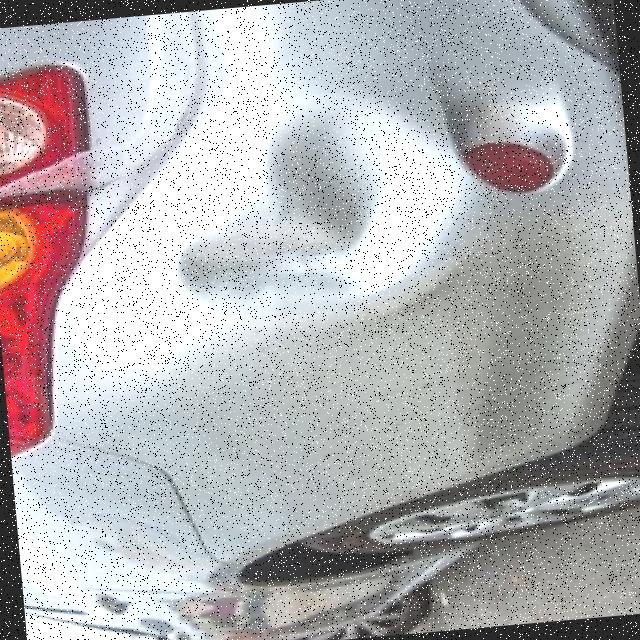Dent: (142, 56, 474, 359)
